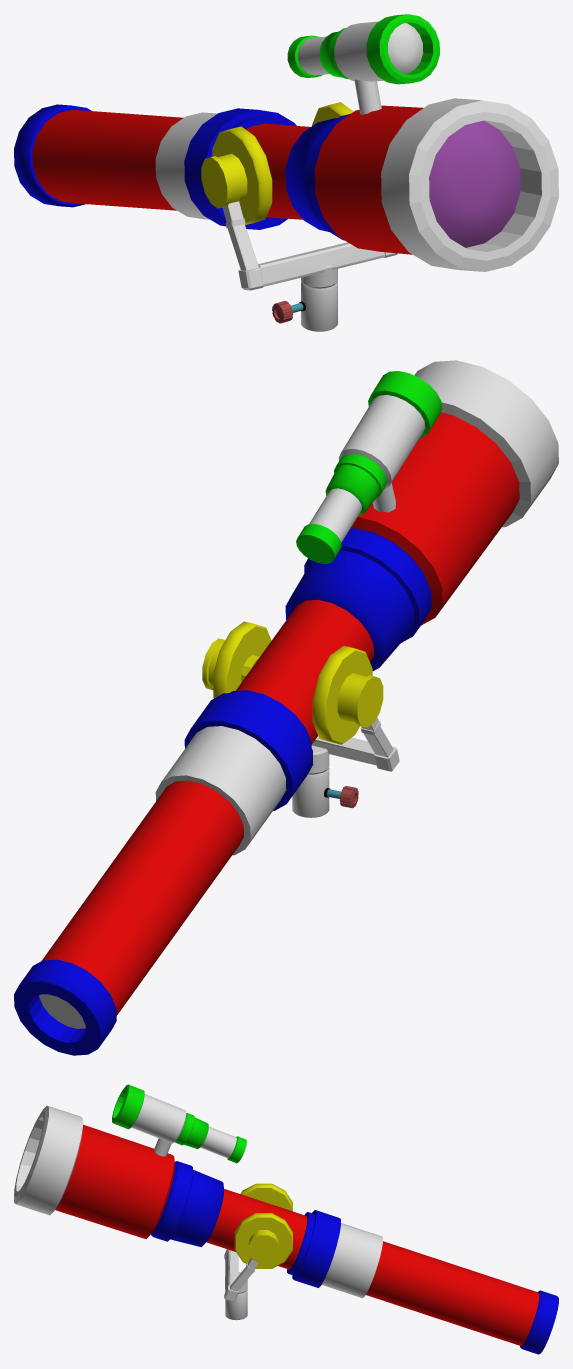
3 views of the same model, one above another, from view 1: azimuth 30°, elevation 25°; view 2: azimuth 150°, elevation 25°; view 3: azimuth 270°, elevation 25° (orthographic). The views are drawn at different scales.
Visible parts, largest first — view 1: Cylinder006; view 2: Cylinder006; view 3: Cylinder006.
Boxes of the visible parts, x1=… form: Cylinder006: x1=14, y1=14, x2=558, y2=331; Cylinder006: x1=14, y1=360, x2=558, y2=1055; Cylinder006: x1=14, y1=1084, x2=558, y2=1354.
Bounding box in the file's own units: 27.61 × 73.98 × 138.
